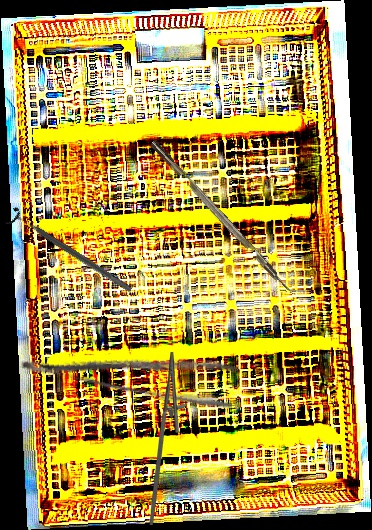Chopper: (149, 132, 307, 304)
Dressing Forceps: (19, 324, 240, 414)
Fixation Ring: (4, 204, 137, 300)
Needle Holder: (149, 352, 187, 525)
